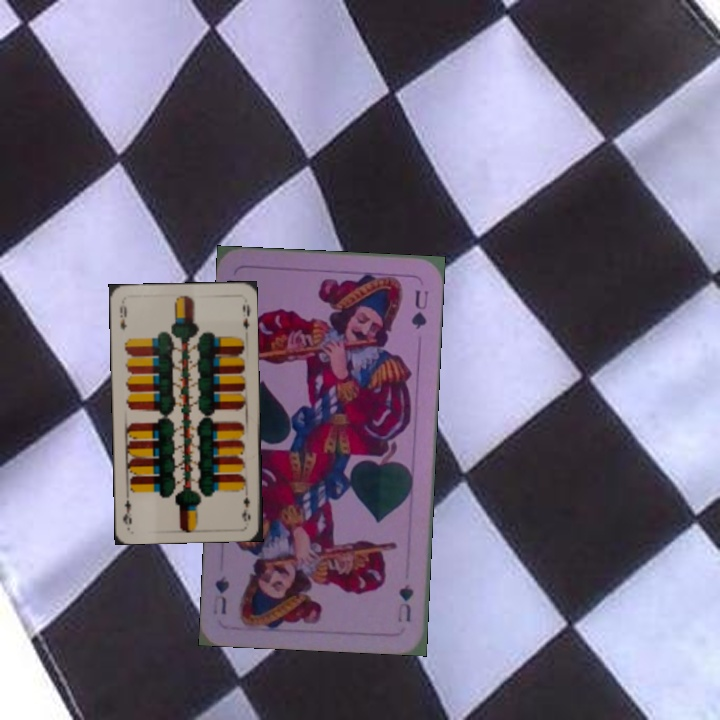E9: (238, 493, 253, 524), (116, 301, 129, 332)
GU: (393, 581, 416, 625)
